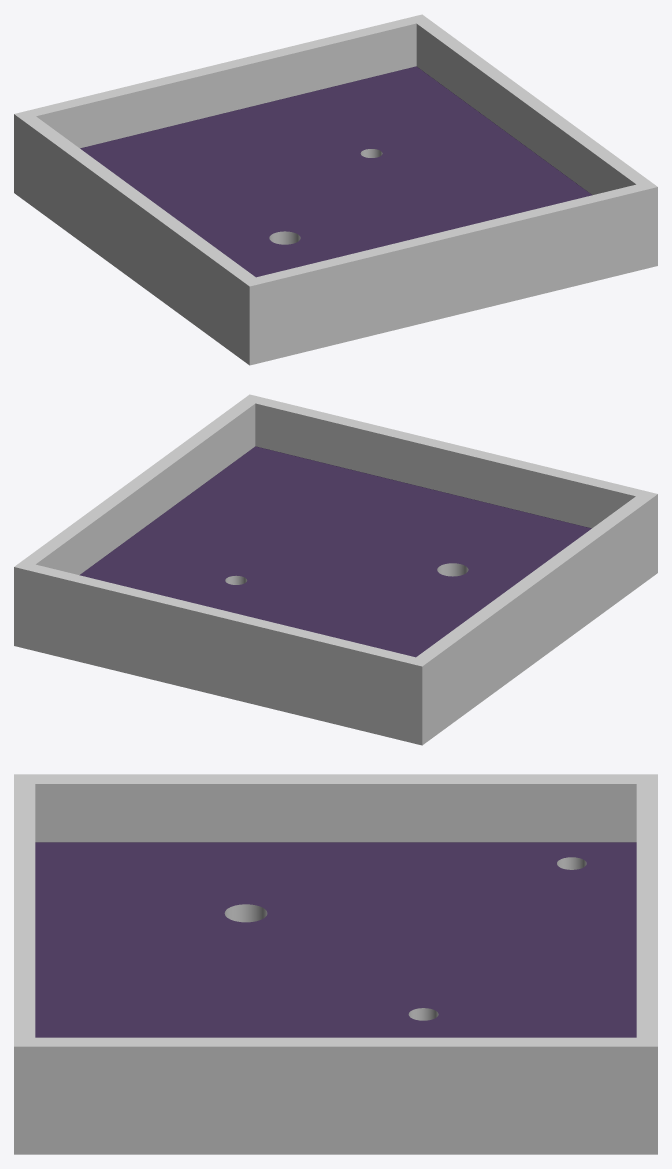
Rendered from maze3.3.fbx.
3 views of the same model, one above another, from view 1: azimuth 30°, elevation 25°; view 2: azimuth 150°, elevation 25°; view 3: azimuth 270°, elevation 25° (orthographic). The views are drawn at different scales.
Parts seen in each view (by area): view 1: Model; view 2: Model; view 3: Model.
Boxes of the visible parts, x1=… form: Model: x1=14, y1=14, x2=657, y2=365; Model: x1=14, y1=394, x2=657, y2=745; Model: x1=14, y1=774, x2=657, y2=1154.
Bounding box in the file's own units: 3600 × 666 × 3600.
